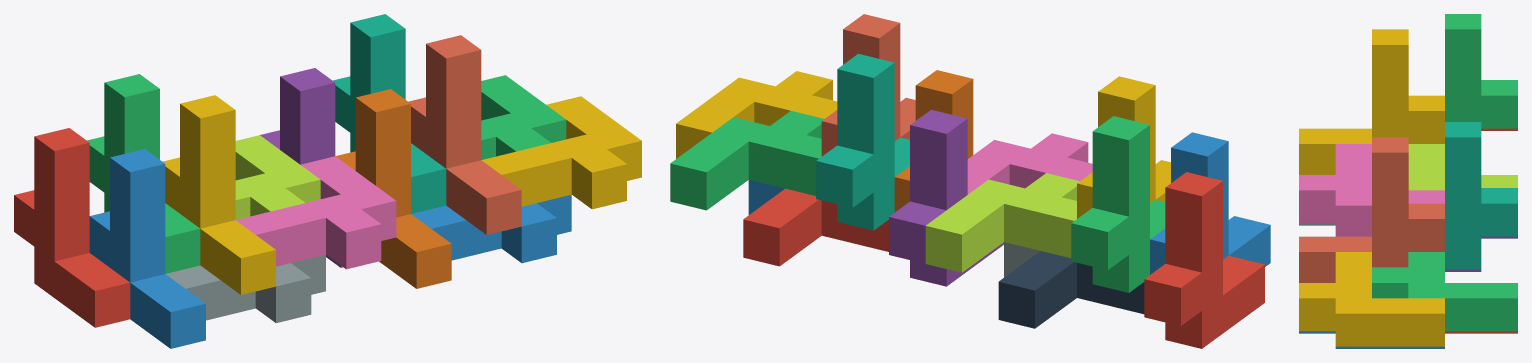
File: tiling.obj
3 renders of one model, left to right at view 1: azimuth 30°, elevation 25°; view 2: azimuth 150°, elevation 25°; view 3: azimuth 270°, elevation 25°, orthographic. The views are drawn at different scales.
Parts seen in each view (by area): view 1: copy_1_domain_1, copy_1_domain_2, copy_1_domain_8, copy_1_domain_4, copy_2_domain_4, copy_2_domain_8, copy_1_domain_6, copy_1_domain_3, copy_1_domain_7, copy_2_domain_6, copy_2_domain_2, copy_1_domain_5 (+2 smaller); view 2: copy_1_domain_1, copy_1_domain_3, copy_1_domain_7, copy_2_domain_3, copy_2_domain_7, copy_1_domain_5, copy_2_domain_1, copy_2_domain_5, copy_2_domain_8, copy_1_domain_2, copy_2_domain_4, copy_1_domain_8 (+4 smaller); view 3: copy_1_domain_8, copy_2_domain_8, copy_1_domain_4, copy_1_domain_7, copy_2_domain_7, copy_1_domain_3, copy_2_domain_4, copy_2_domain_3, copy_2_domain_6, copy_1_domain_5, copy_2_domain_5.
Part boxes in pixels (x1,y1,x2,y2): copy_1_domain_1: [14, 128, 130, 327]; copy_1_domain_2: [89, 149, 205, 348]; copy_1_domain_8: [408, 35, 521, 234]; copy_1_domain_4: [163, 95, 275, 294]; copy_2_domain_4: [236, 156, 396, 269]; copy_2_domain_8: [481, 96, 641, 209]; copy_1_domain_6: [335, 89, 451, 288]; copy_1_domain_3: [87, 74, 200, 273]; copy_1_domain_7: [333, 14, 446, 213]; copy_2_domain_6: [411, 194, 571, 263]; copy_2_domain_2: [166, 254, 325, 323]; copy_1_domain_5: [260, 68, 342, 267]; copy_1_domain_1: [1144, 172, 1264, 348]; copy_1_domain_3: [1071, 116, 1165, 292]; copy_1_domain_7: [816, 53, 909, 230]; copy_2_domain_3: [925, 173, 1079, 272]; copy_2_domain_7: [670, 111, 824, 210]; copy_1_domain_5: [889, 109, 1003, 286]; copy_2_domain_1: [998, 251, 1144, 328]; copy_2_domain_5: [743, 188, 888, 266]; copy_2_domain_8: [676, 71, 837, 158]; copy_1_domain_2: [1150, 132, 1270, 274]; copy_2_domain_4: [967, 133, 1092, 194]; copy_1_domain_8: [821, 14, 915, 156]; copy_1_domain_8: [1299, 137, 1444, 282]; copy_2_domain_8: [1299, 252, 1444, 346]; copy_1_domain_4: [1299, 29, 1444, 174]; copy_1_domain_7: [1445, 122, 1517, 269]; copy_2_domain_7: [1372, 252, 1517, 331]; copy_1_domain_3: [1445, 14, 1517, 128]; copy_2_domain_4: [1299, 144, 1444, 236]; copy_2_domain_3: [1408, 144, 1517, 190]; copy_2_domain_6: [1299, 331, 1444, 348]; copy_1_domain_5: [1445, 236, 1517, 271]; copy_2_domain_5: [1445, 331, 1517, 333].
Bounding box in the file's own units: 15 × 5 × 6.
